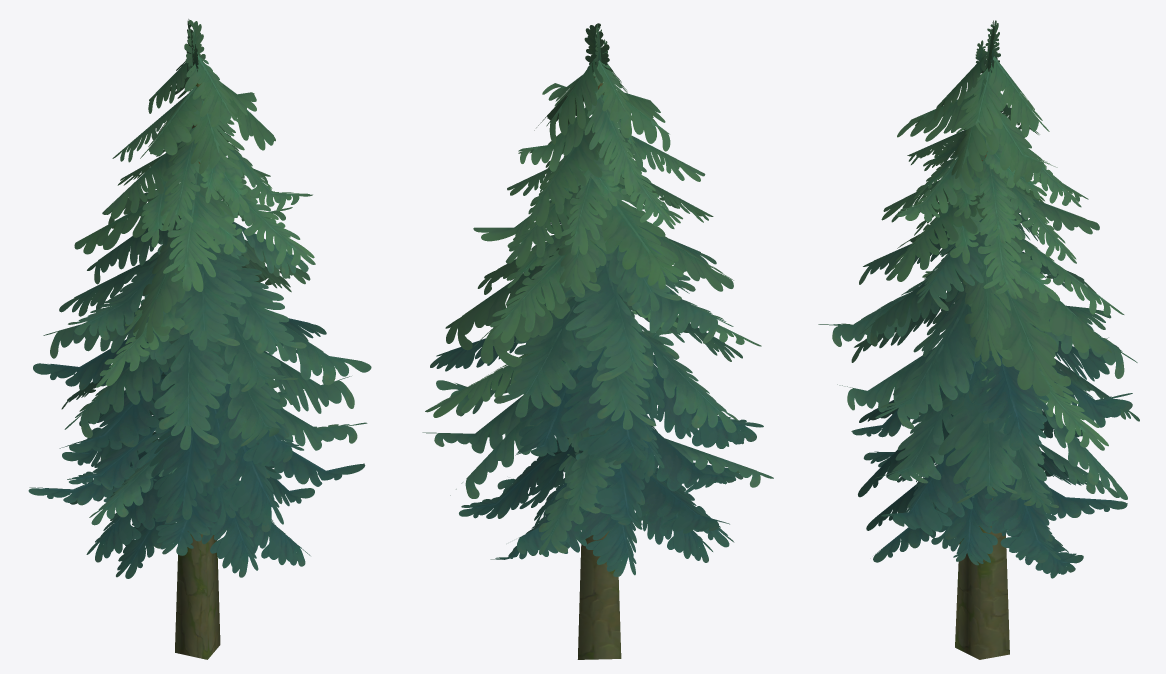
Rendered from m_env_collect_tree_cedar_03_lod3.FBX.
The picture shows the model from 3 angles, left to right: view 1: azimuth 30°, elevation 25°; view 2: azimuth 150°, elevation 25°; view 3: azimuth 270°, elevation 25°; orthographic projection.
Parts seen in each view (by area): view 1: m_env_collect_tree_cedar_03_lod3; view 2: m_env_collect_tree_cedar_03_lod3; view 3: m_env_collect_tree_cedar_03_lod3.
Part boxes in pixels (x1,y1,x2,y2): m_env_collect_tree_cedar_03_lod3: (28,19,371,659); m_env_collect_tree_cedar_03_lod3: (422,23,773,659); m_env_collect_tree_cedar_03_lod3: (818,20,1139,659).
Bounding box in the file's own units: 423 × 774 × 374.
